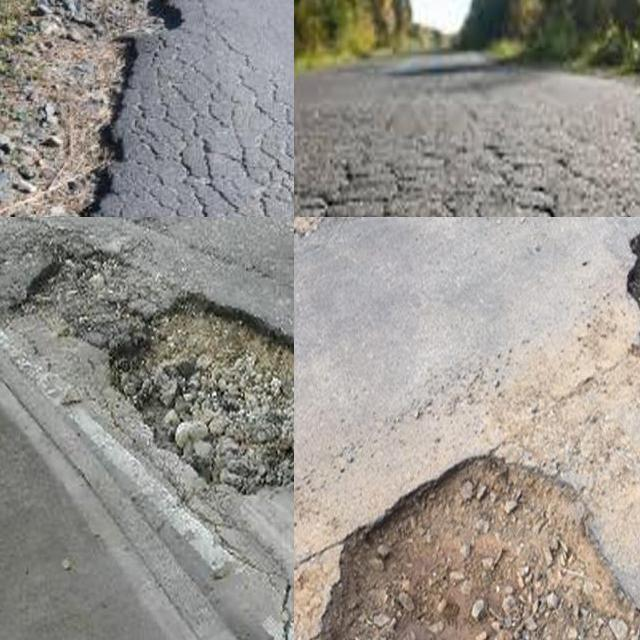Lubang: (328, 461, 640, 640), (111, 294, 294, 486), (24, 254, 114, 317)
Pinggir: (0, 0, 227, 217)
Retak Buaya: (294, 106, 640, 217), (116, 33, 294, 217)
